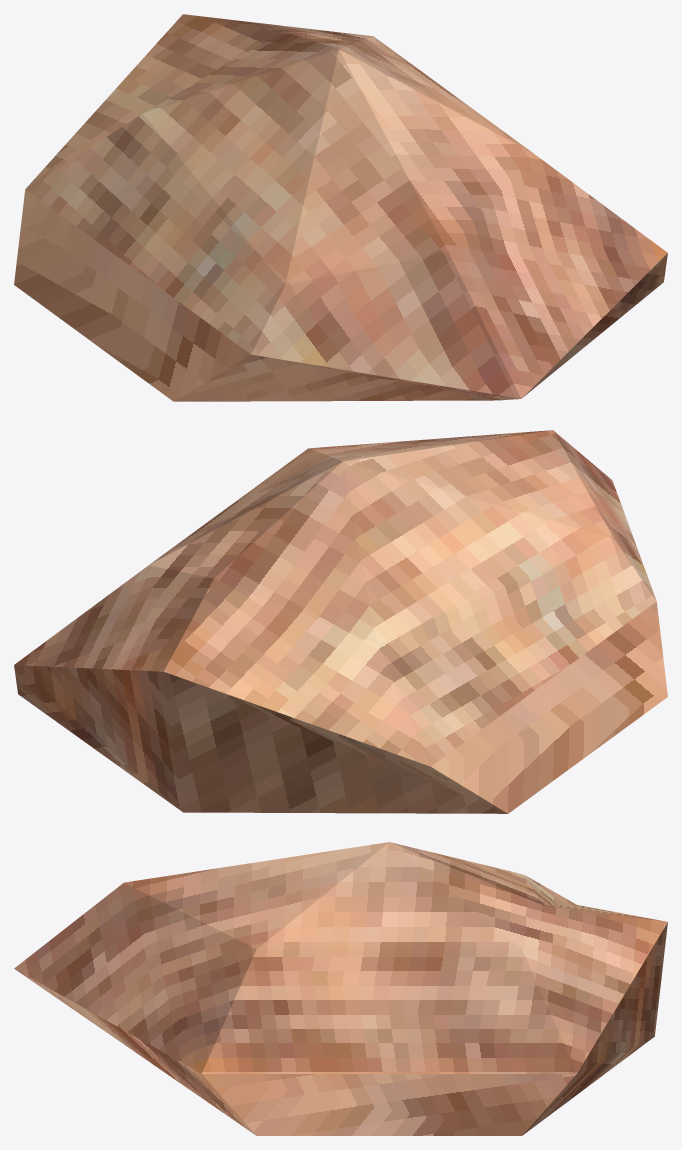
File: rock.obj
3 renders of one model, top to bottom at view 1: azimuth 30°, elevation 25°; view 2: azimuth 150°, elevation 25°; view 3: azimuth 270°, elevation 25°, orthographic. The views are drawn at different scales.
Parts seen in each view (by area): view 1: Sphere; view 2: Sphere; view 3: Sphere.
Boxes of the visible parts, x1,y1,x2,y2 form: Sphere: [14, 14, 667, 401]; Sphere: [14, 430, 667, 813]; Sphere: [14, 842, 667, 1135].
Bounding box in the file's own units: 0.4186 × 0.2118 × 0.5822.
